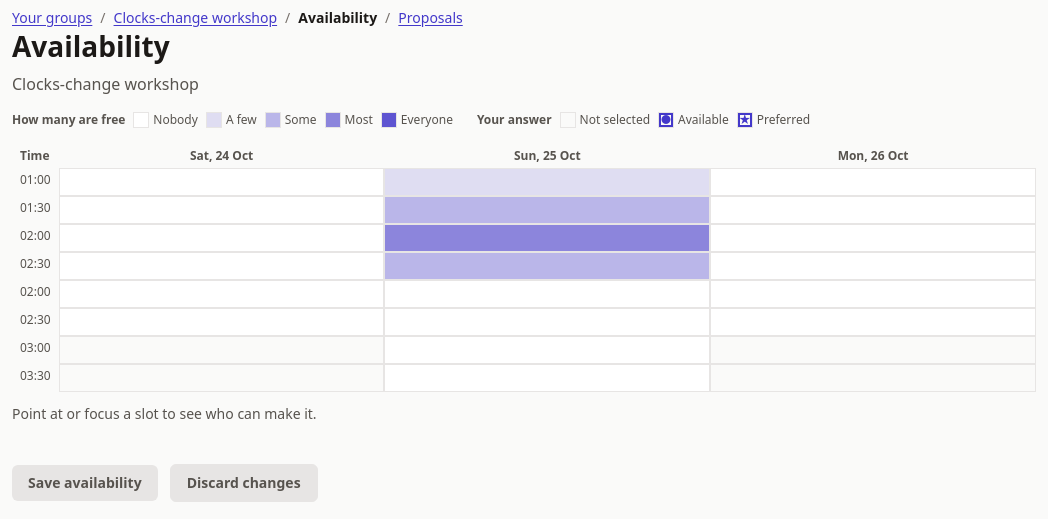
Scenario: AvailabilityBoard saving › keeps the saved selection on screen when the refetch that follows fails
The image size is (1048, 519).
Press the mouse on the cell named "Sat, 24 Oct at 01:00": x=222, y=182 [59,168,384,196]
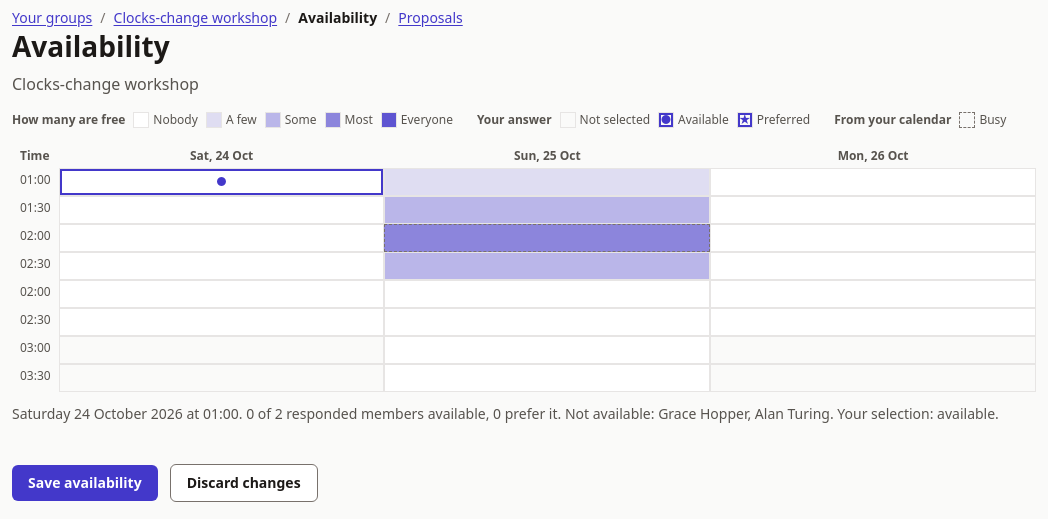
Click the button "Save availability": x=85, y=483 [12,465,158,501]
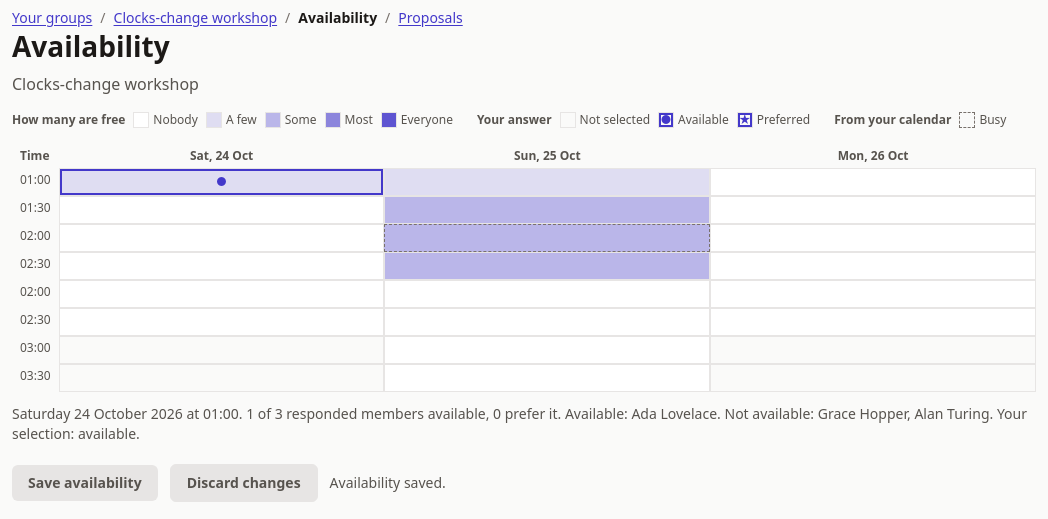
Now the text "Availability saved." is shown, box [330,473,446,493]
Now the button "Save availability" is disabled, box [12,465,158,501]
